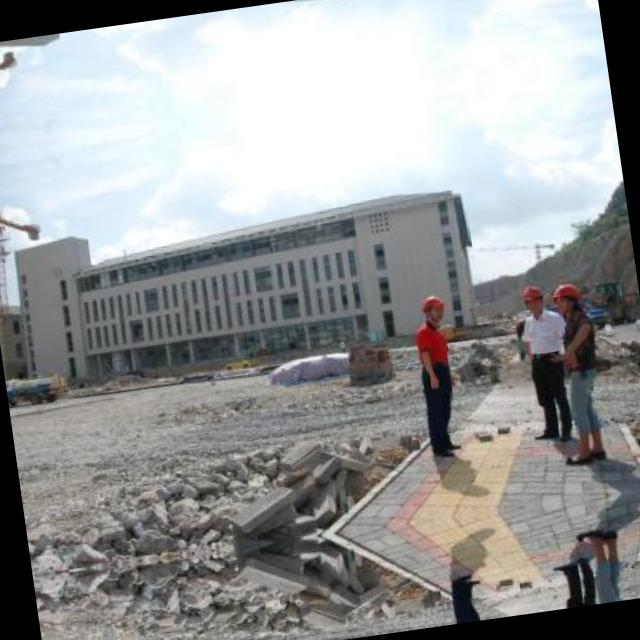helmet: (546, 278, 584, 316), (416, 290, 451, 330), (518, 280, 544, 316)
